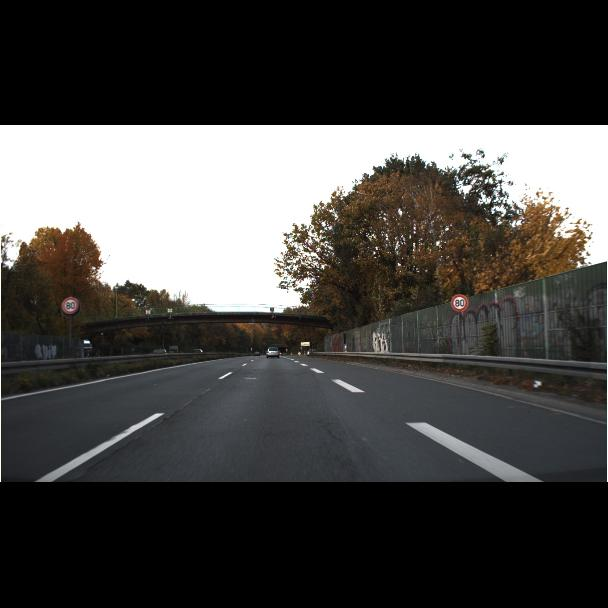NO-speed limit 80: (62, 295, 468, 314)
